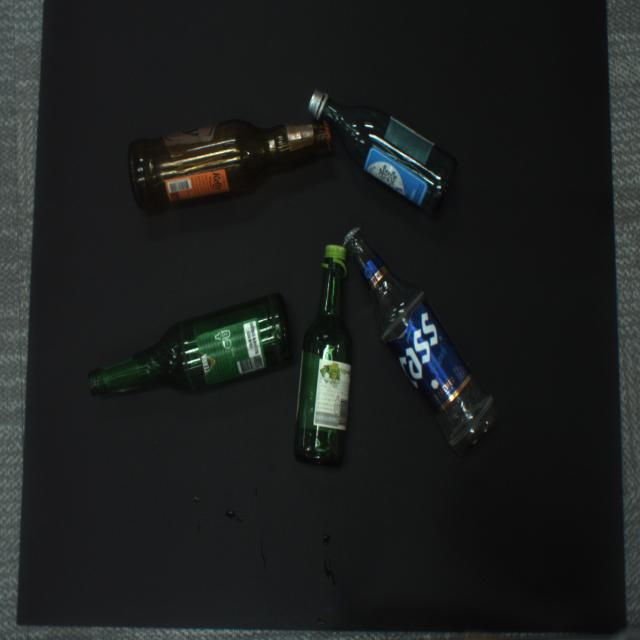beer-bottle: (343, 226, 496, 455), (88, 294, 291, 395), (129, 119, 331, 211)
soju-bottle: (307, 89, 454, 216), (295, 245, 352, 465)
